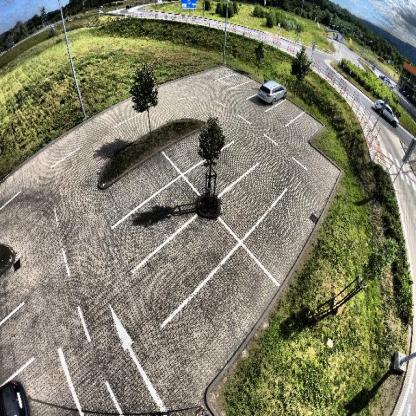free: (174, 266, 272, 362), (138, 236, 226, 300), (126, 199, 196, 265), (222, 172, 284, 232), (254, 211, 314, 272), (108, 166, 176, 218), (200, 141, 260, 194), (179, 121, 233, 172), (46, 132, 89, 169), (111, 95, 147, 129), (0, 172, 30, 207), (291, 110, 321, 141), (277, 100, 303, 128), (236, 82, 261, 105), (224, 73, 248, 89), (209, 64, 233, 79)
occupied: (254, 80, 289, 112)
